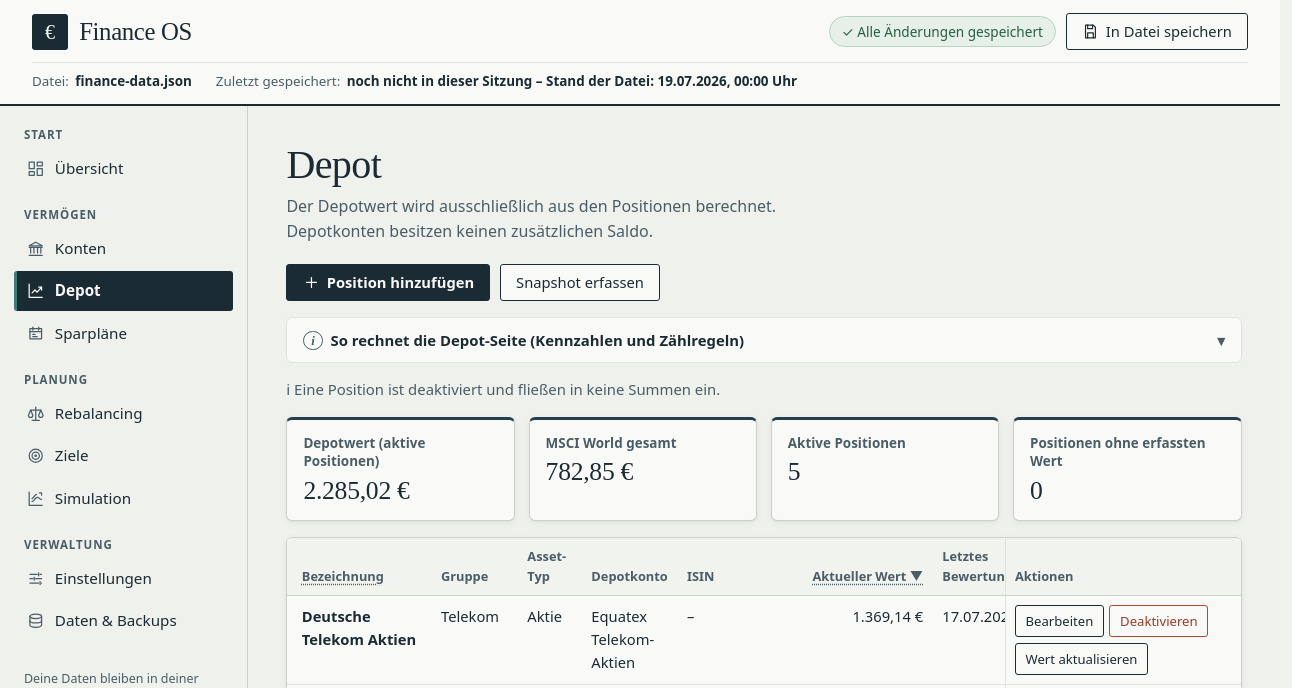
Test: DepotPage – Hinzufügen › warnt bei Dublette auf INAKTIVER Position mit Reaktivierungs-Hinweis
Click the button "Position hinzufügen" at (388, 283), box [286, 264, 490, 301]
(page scrolled)
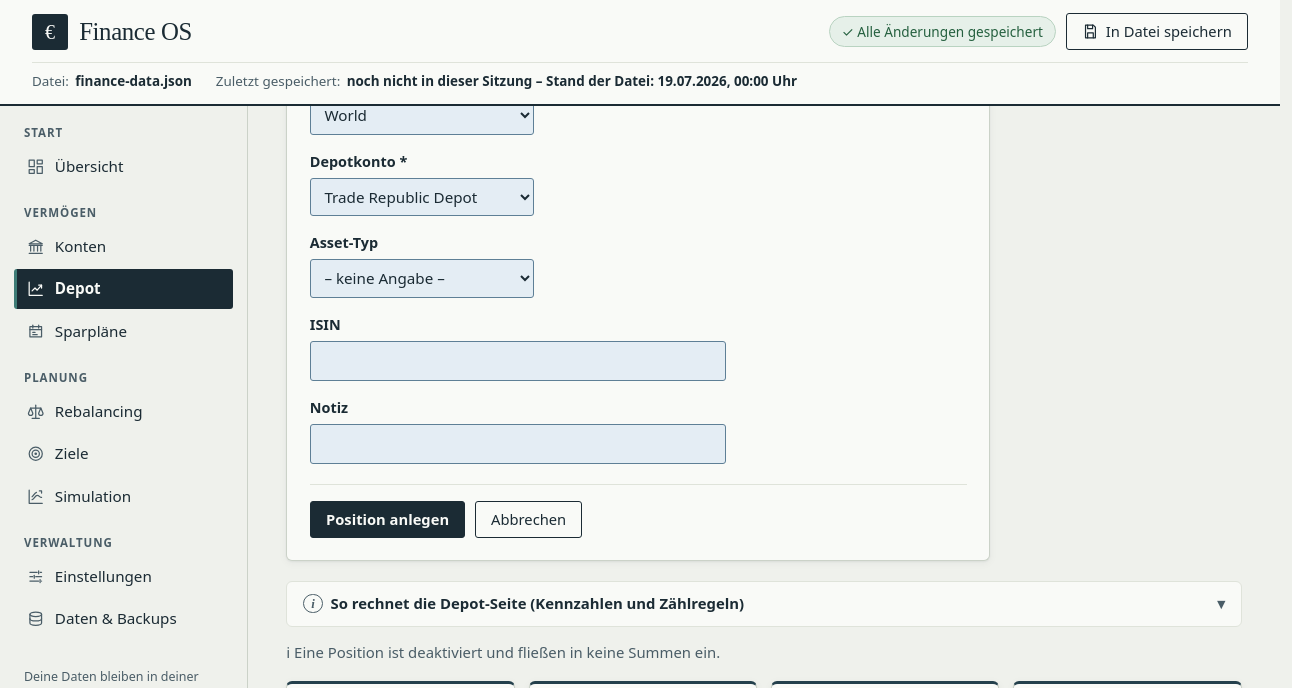
Type "IE00BFY0GT14" into the field labelled "ISIN" at (518, 361), box [310, 341, 726, 380]
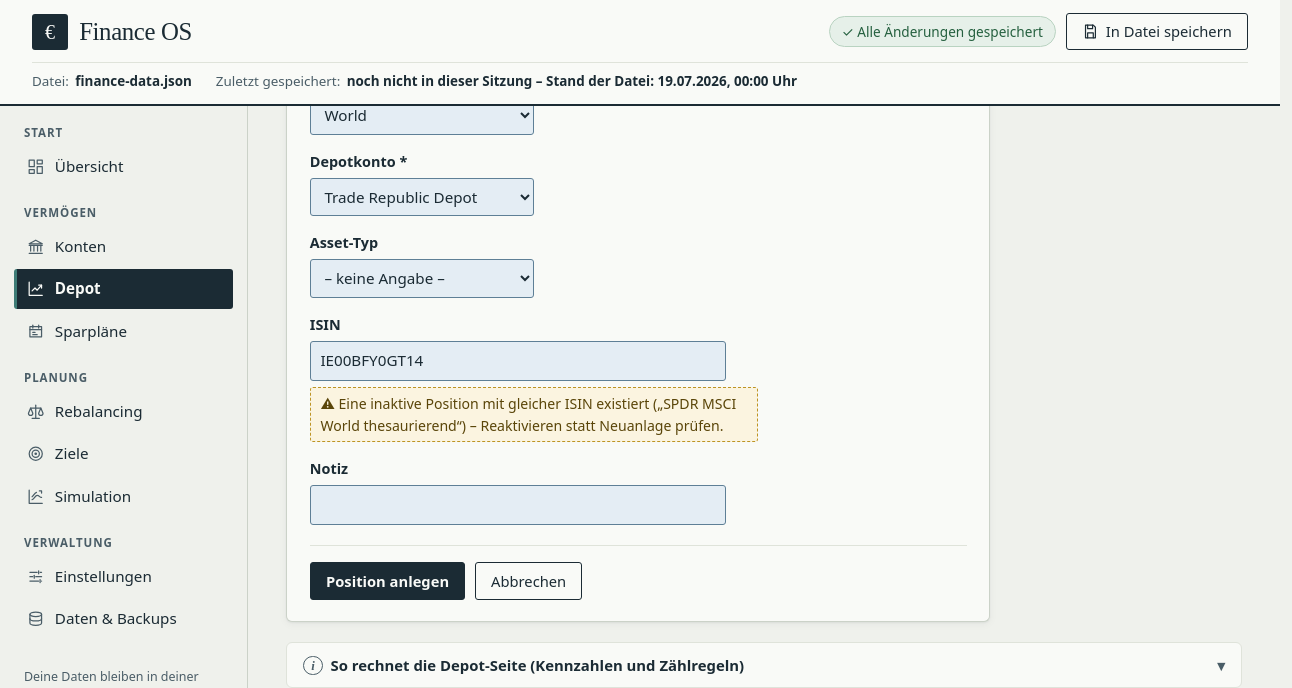
Expected: the text "Reaktivieren statt Neuanlage prüfen" is shown, [320, 394, 736, 434]
